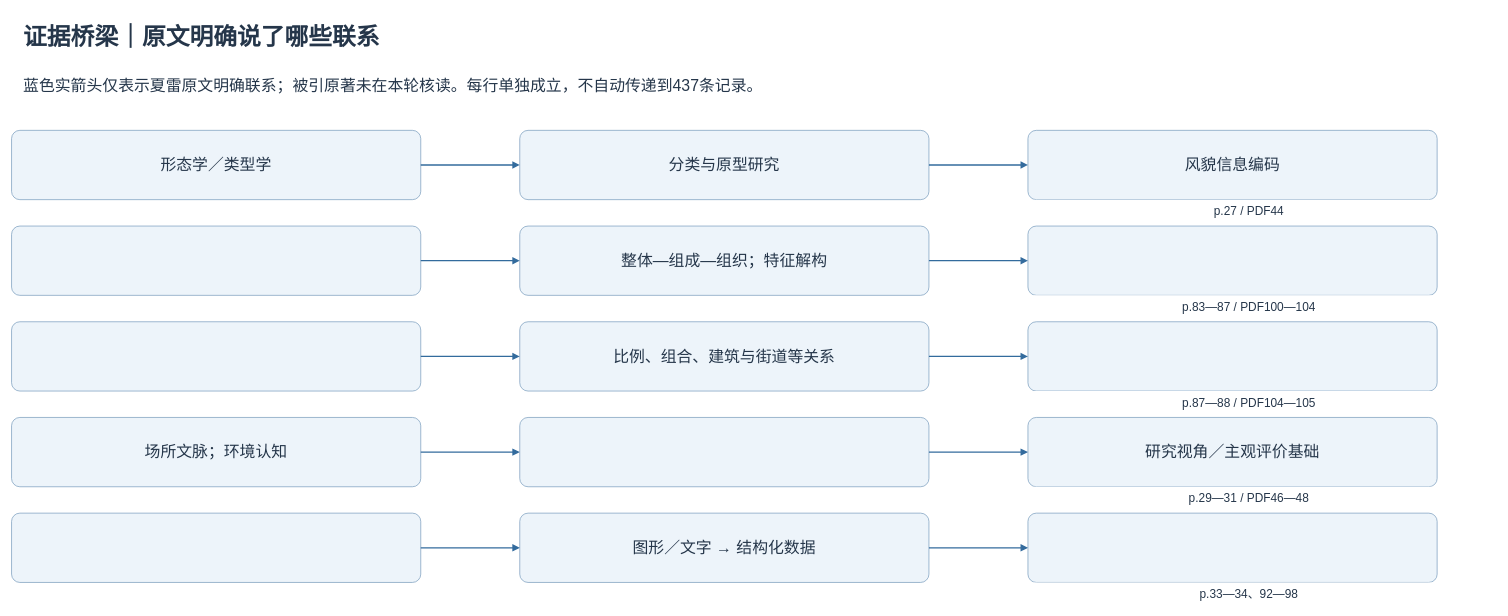
Image size: 1508x616. Some labels were removed from this diagram. Each missing label, with the centre of its shape:
"二维／三维／结构／感知识别" goes at [216,356].
"人文—空间联系；主观感受" goes at [724,452].
"作者的信息抽象与整理" goes at [216,547].
"保留原件；按关系组织数据表" goes at [1232,547].
"可识别的风貌信息" goes at [1232,356].
"图4-2识别及表4-1—3编码" goes at [1232,260].
"格式塔与特征识别" goes at [216,260].
